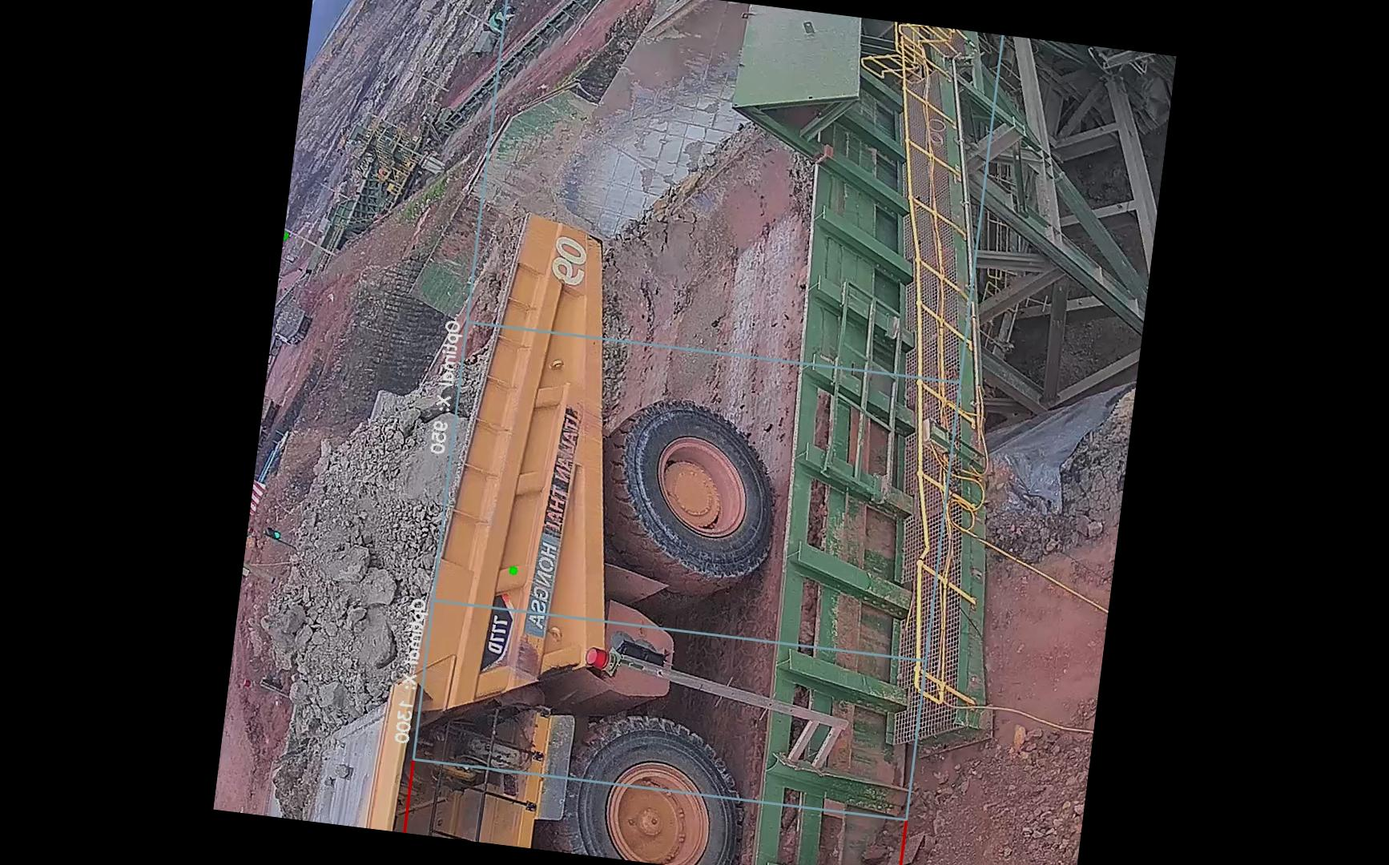company: (515, 396, 592, 661)
full_load: (248, 384, 481, 772)
mining_truck: (225, 172, 826, 865)
tail_number: (536, 221, 604, 302)
truck_size: (468, 585, 524, 679)
